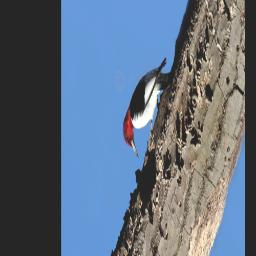Woodpecker: (117, 50, 178, 164)
